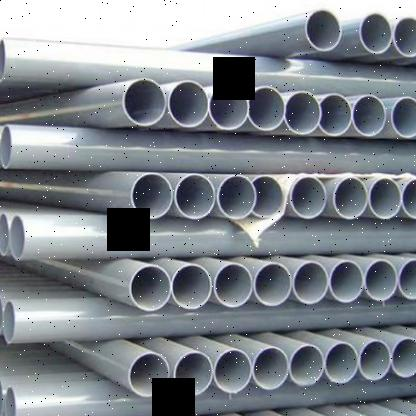pipe: (122, 78, 167, 127), (130, 172, 173, 219), (168, 80, 210, 127), (174, 173, 216, 220), (130, 265, 172, 312), (209, 84, 250, 131), (172, 264, 212, 310), (128, 354, 170, 396), (173, 352, 213, 396), (214, 262, 252, 308), (248, 86, 286, 131), (284, 91, 322, 135), (218, 175, 256, 219), (254, 262, 292, 306), (292, 260, 328, 305), (214, 350, 252, 392), (290, 176, 326, 219), (253, 347, 289, 390), (306, 10, 342, 52), (333, 176, 368, 219), (289, 345, 325, 386), (318, 94, 352, 136), (368, 178, 402, 220), (364, 259, 398, 301), (330, 260, 364, 302), (325, 342, 359, 384), (352, 95, 386, 136), (251, 175, 283, 218), (360, 13, 392, 55), (359, 340, 392, 380), (390, 96, 416, 139), (390, 337, 416, 378), (393, 18, 416, 58), (397, 258, 416, 300), (10, 215, 25, 261), (401, 178, 416, 219), (3, 301, 16, 344), (0, 124, 11, 168), (4, 386, 17, 416), (0, 214, 8, 256), (0, 38, 5, 81), (0, 294, 4, 336), (0, 378, 2, 416)
